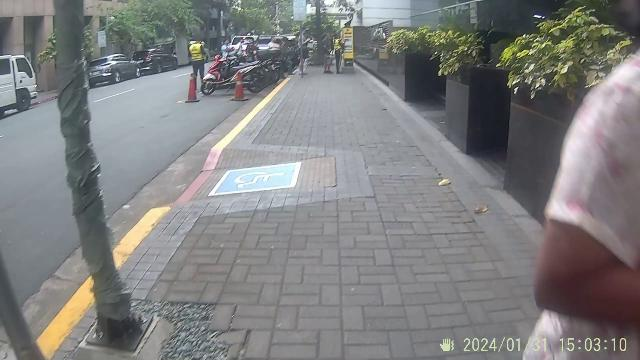construction_materials: (180, 70, 202, 106), (232, 68, 250, 102)
street_sign: (292, 0, 308, 76)
utility_post: (56, 1, 140, 350)
